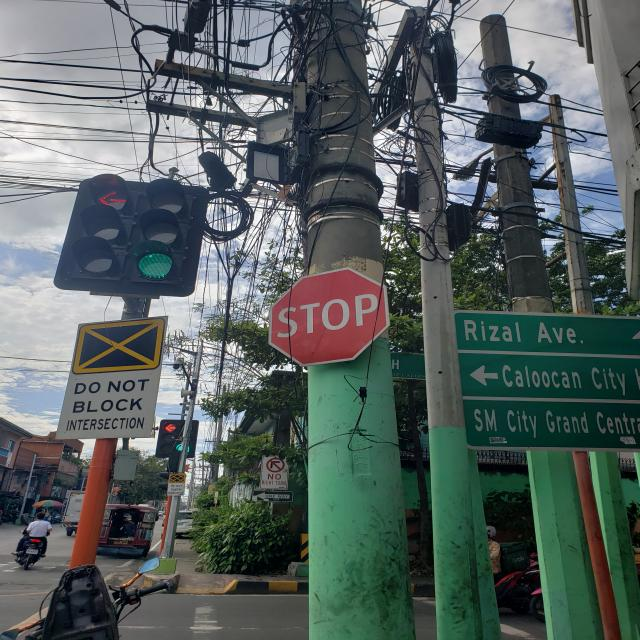stop-sign: (268, 267, 391, 367)
